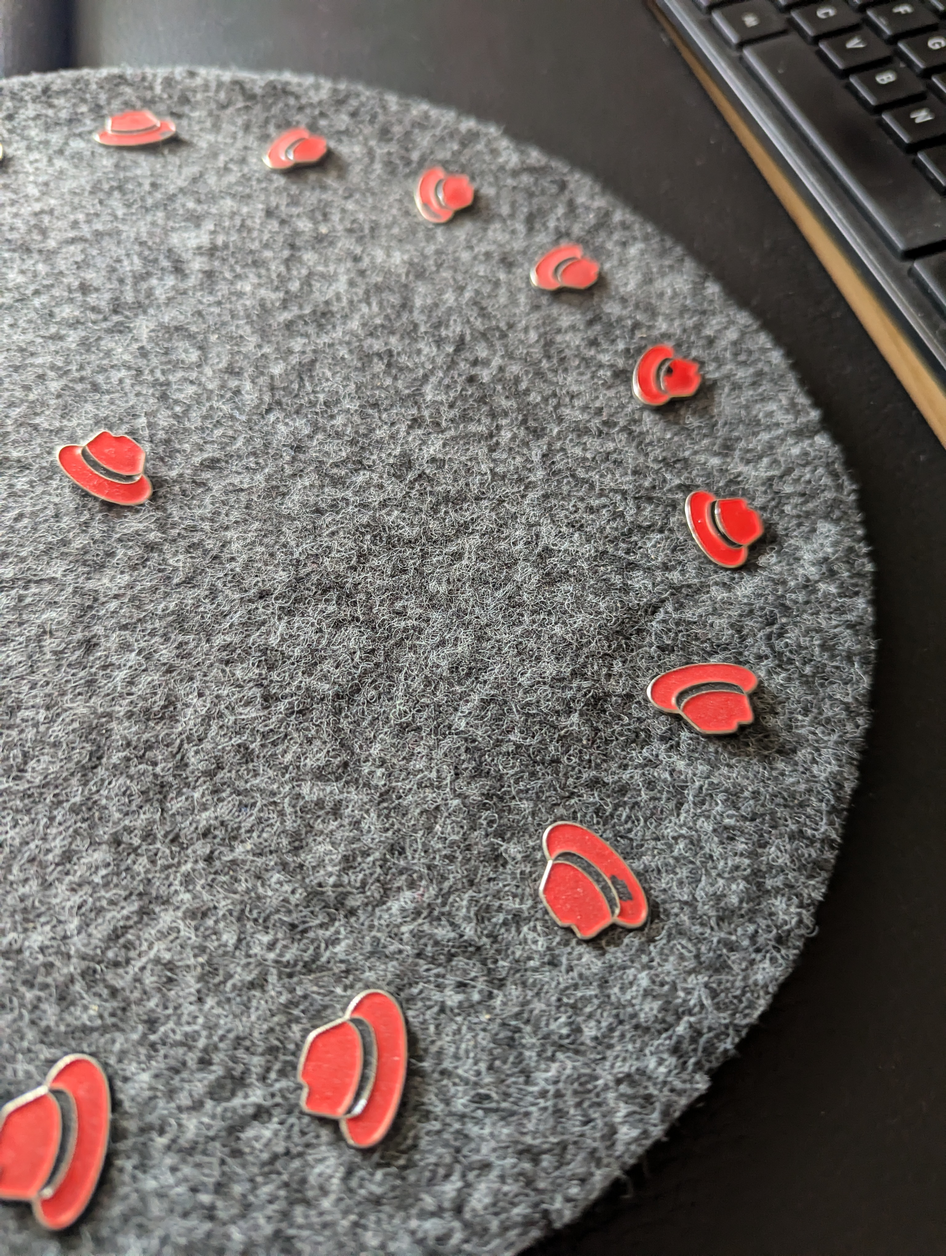Red-Hat: (278, 966, 438, 1164), (0, 1034, 137, 1256), (525, 801, 672, 969), (37, 405, 175, 527), (628, 654, 776, 751), (672, 476, 781, 577), (611, 319, 710, 426), (400, 153, 497, 242), (86, 98, 203, 157), (521, 232, 610, 300), (257, 117, 343, 183)
Scratch: (602, 863, 635, 912), (415, 189, 451, 227), (652, 360, 693, 382), (154, 121, 185, 147)
